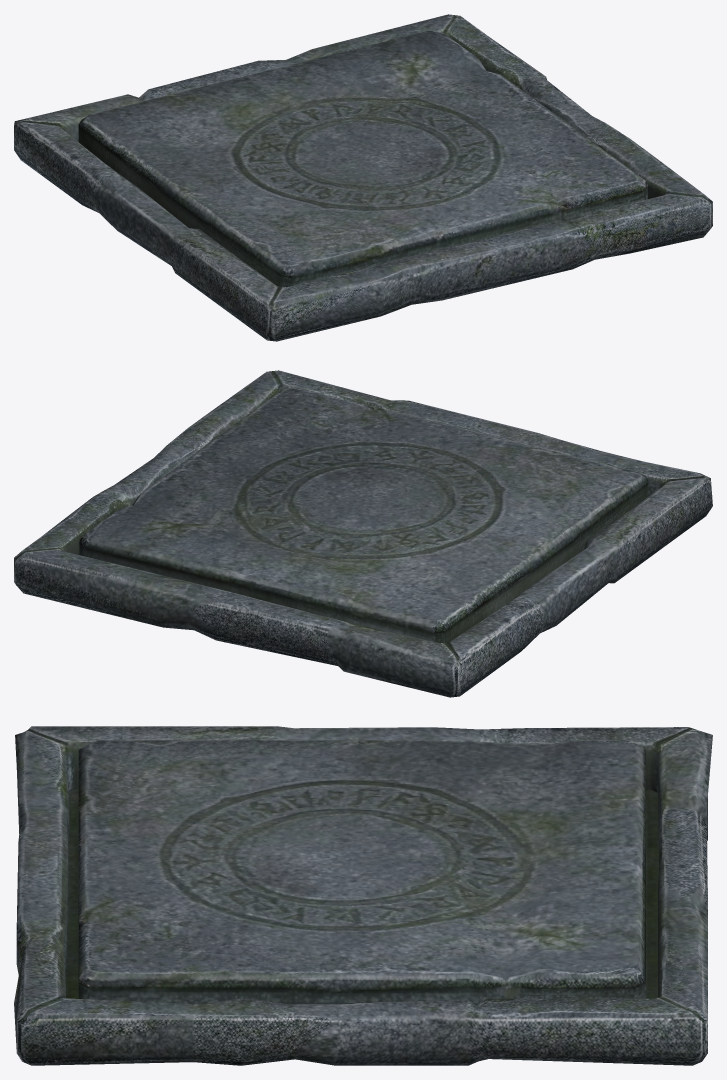
The model's file is piastra.glb.
3 views of the same model, one above another, from view 1: azimuth 30°, elevation 25°; view 2: azimuth 150°, elevation 25°; view 3: azimuth 270°, elevation 25° (orthographic). The views are drawn at different scales.
Visible parts, largest first — view 1: piastra; view 2: piastra; view 3: piastra.
Part boxes in pixels (bbox=[...]): piastra: bbox=[14, 14, 712, 341]; piastra: bbox=[14, 370, 712, 697]; piastra: bbox=[14, 726, 712, 1065].
Bounding box in the file's own units: 0.9995 × 0.1079 × 0.9995.
Materials: 1 (1 with a texture image).
